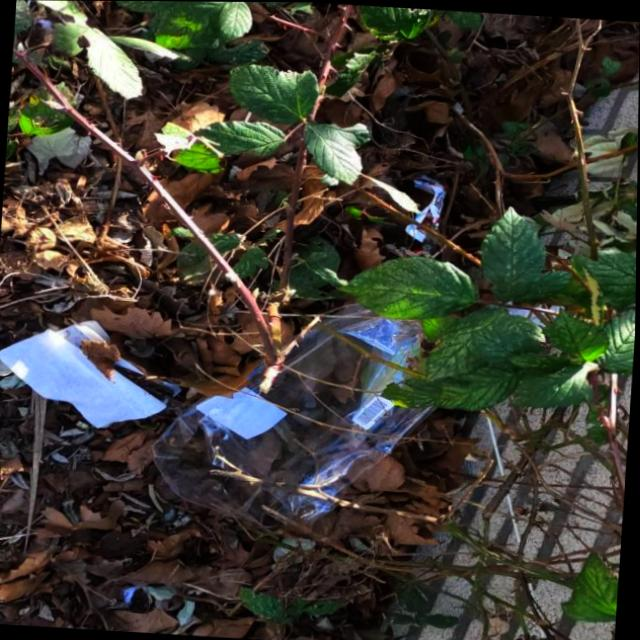Paper: (0, 312, 188, 433)
Plastic: (403, 171, 452, 244)
